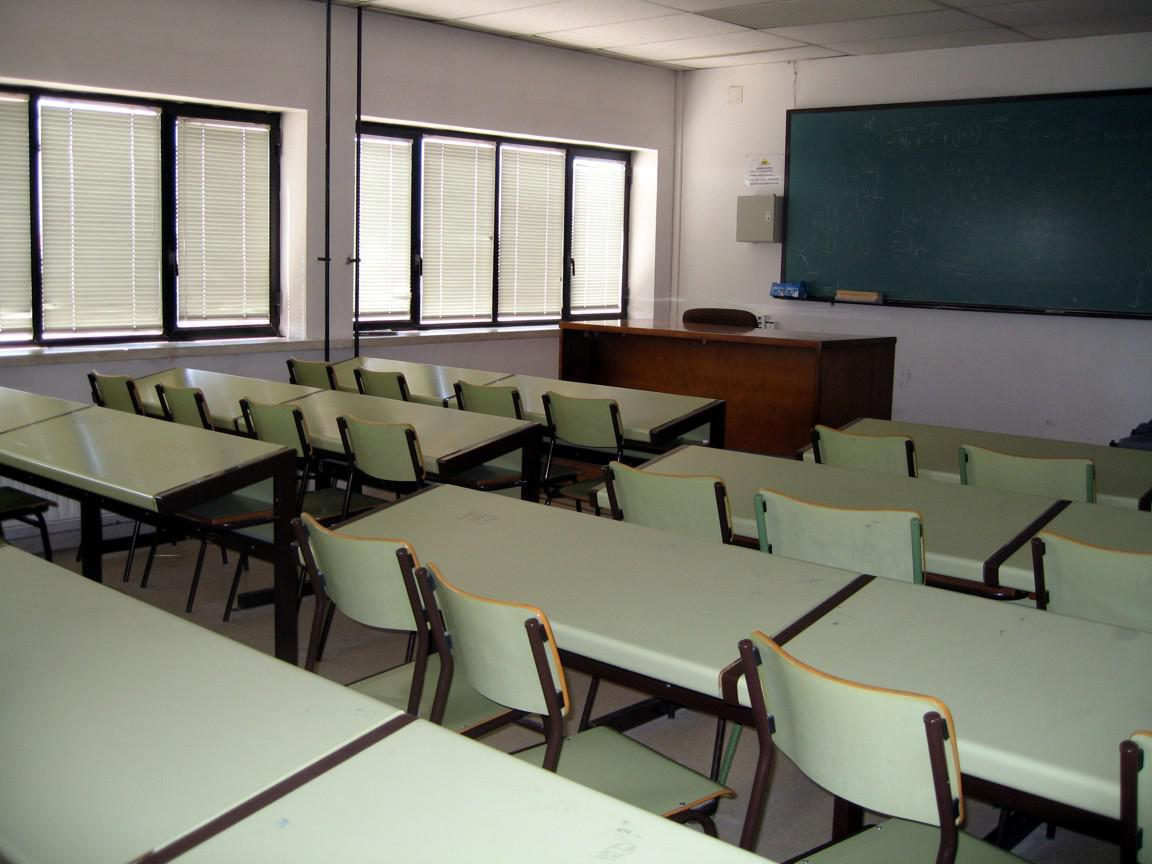Ventana: (8, 79, 284, 337), (355, 115, 630, 318)
